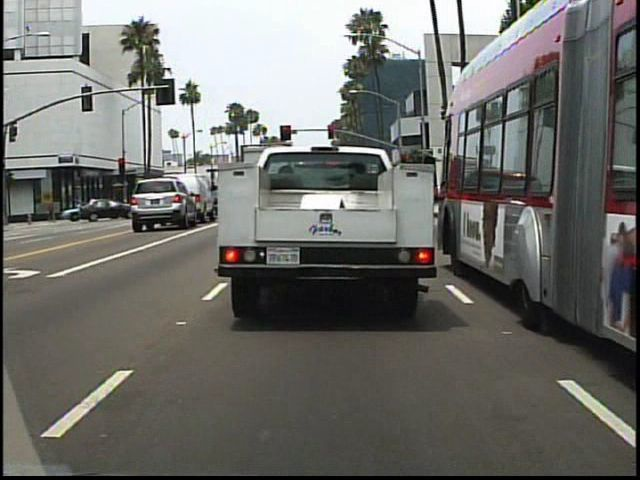person: (44, 196, 60, 226)
